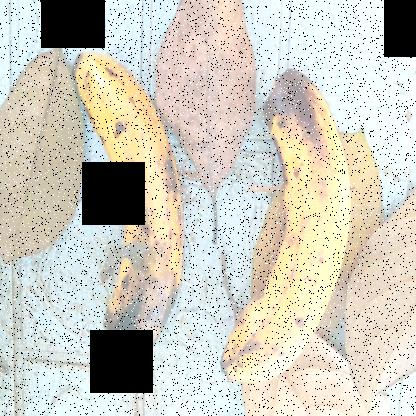overripe: (212, 58, 352, 395)
rotten: (68, 64, 191, 373)
